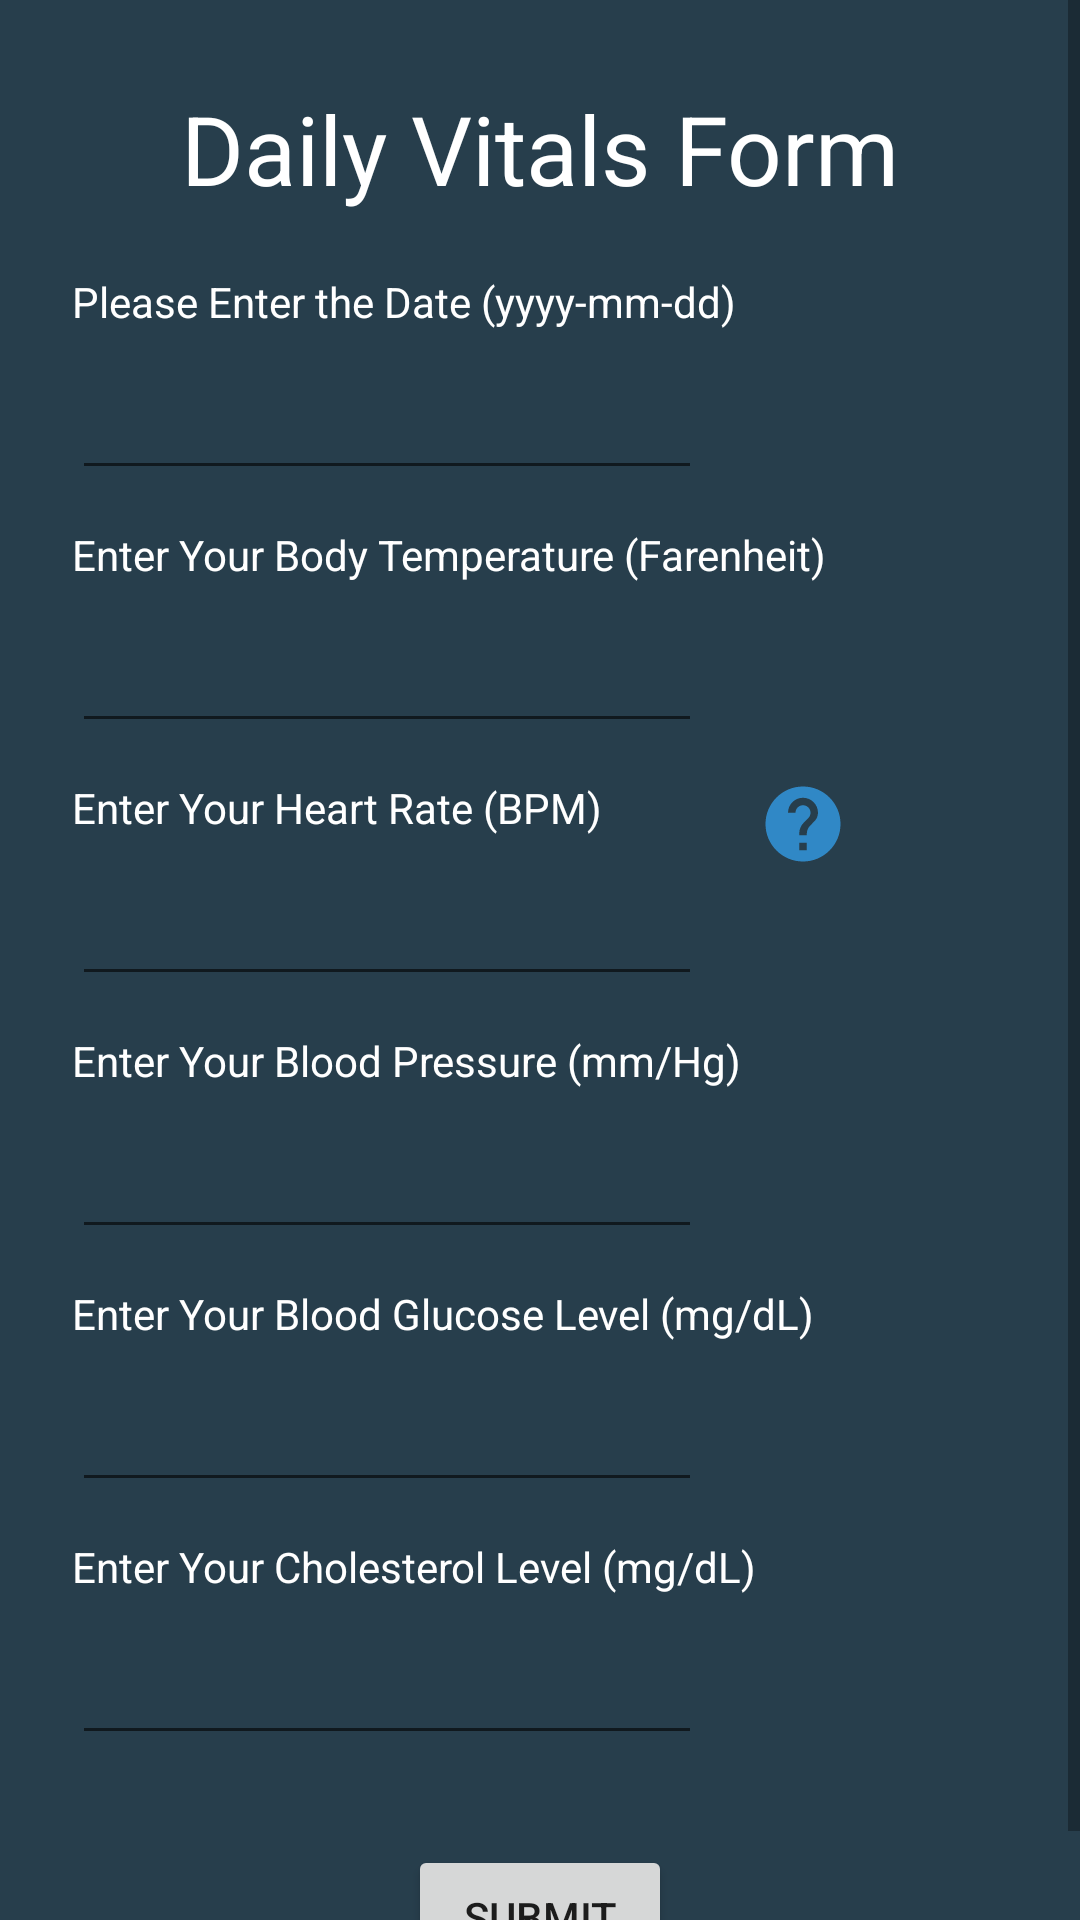

Icons on this 1080x1920 Android screen, each with its box as (x1, y1, x2, y2):
help: (765, 786, 841, 862)
